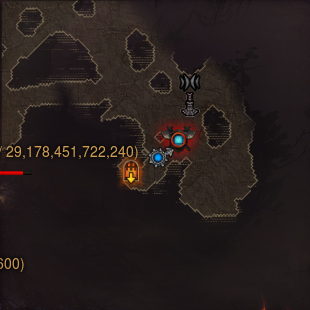Exit: (123, 159, 142, 187)
